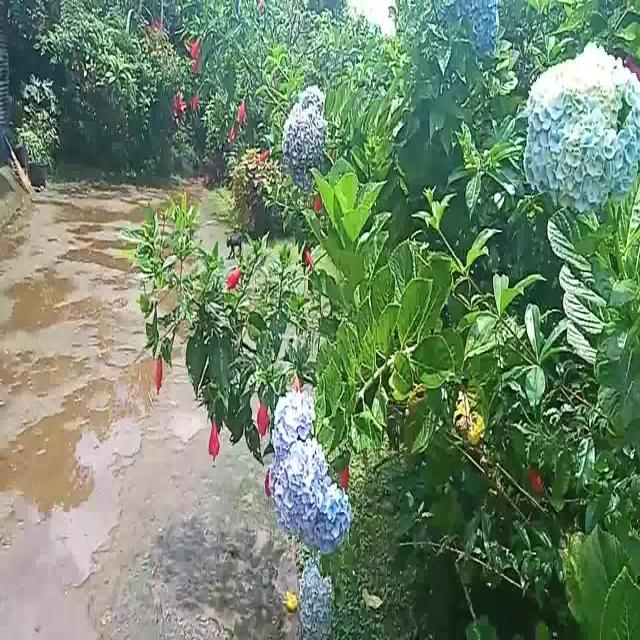Flower: (525, 33, 639, 214), (272, 389, 352, 549), (282, 81, 328, 182), (294, 556, 336, 634), (209, 410, 221, 467), (257, 394, 271, 439), (154, 352, 166, 399), (226, 266, 244, 296)
